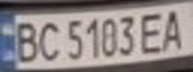0: (100, 15, 121, 58)
1: (81, 15, 103, 60)
3: (115, 11, 142, 57)
5: (63, 16, 84, 61)
A: (157, 6, 190, 52)
B: (9, 18, 42, 64)
C: (33, 18, 63, 62)
E: (136, 8, 169, 55)
